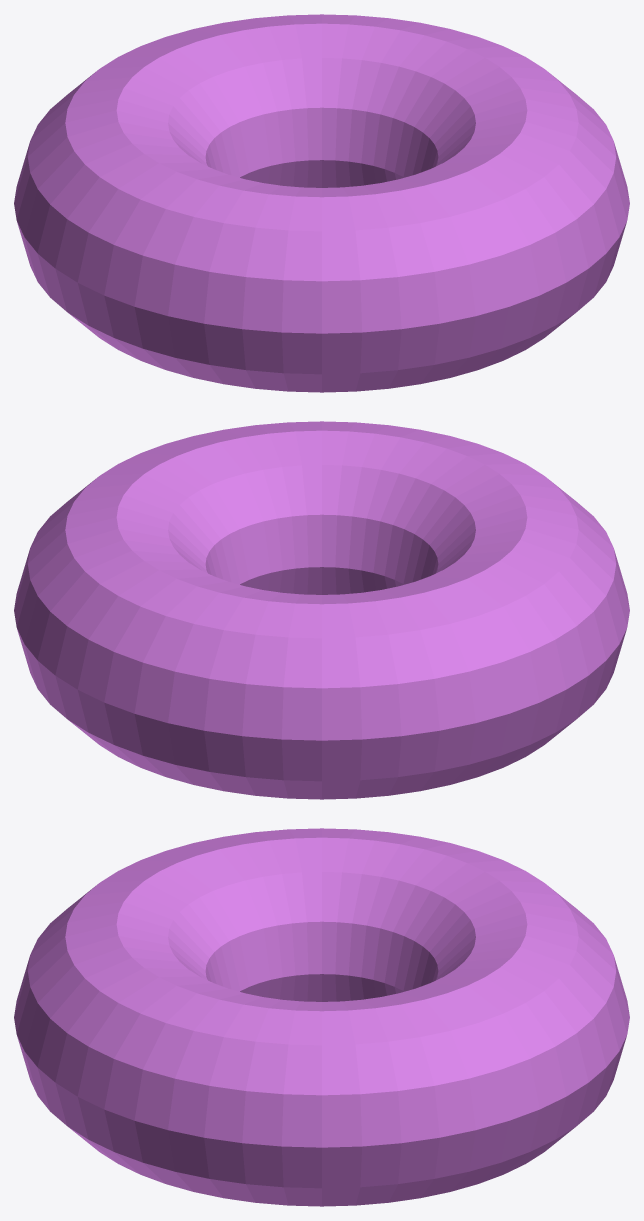
3 views of the same model, one above another, from view 1: azimuth 30°, elevation 25°; view 2: azimuth 150°, elevation 25°; view 3: azimuth 270°, elevation 25° (orthographic).
Visible parts, largest first — view 1: Torus.001; view 2: Torus.001; view 3: Torus.001.
Part boxes in pixels (x1,y1,x2,y2): Torus.001: (14, 14, 629, 392); Torus.001: (14, 421, 629, 799); Torus.001: (14, 828, 629, 1206).
Bounding box in the file's own units: 1.5 × 0.5 × 1.5.
